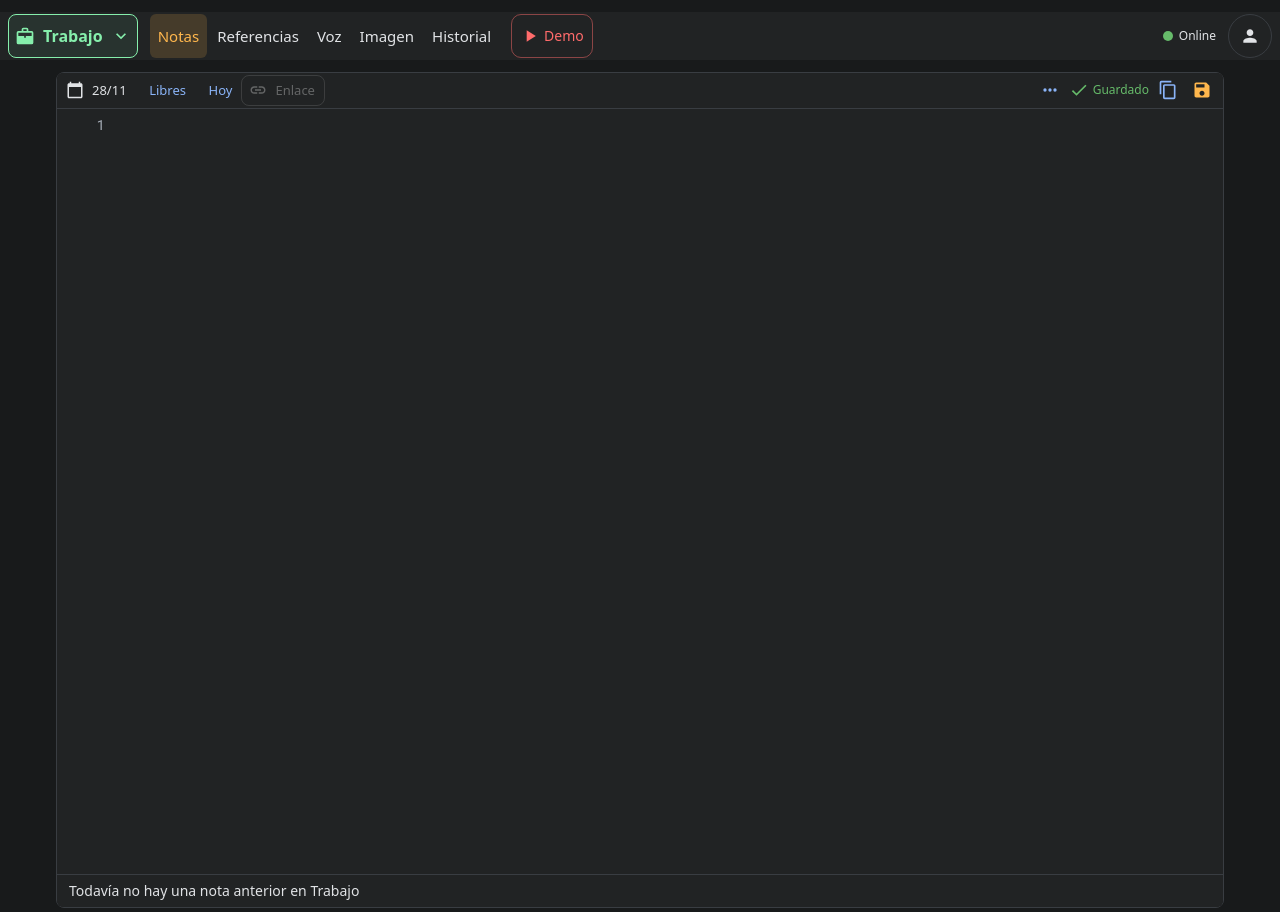
DailyNotesPage copy note › shows error when clipboard API rejects permission
Click the button named "Copiar nota" at [1168, 90], box [1153, 75, 1183, 105]
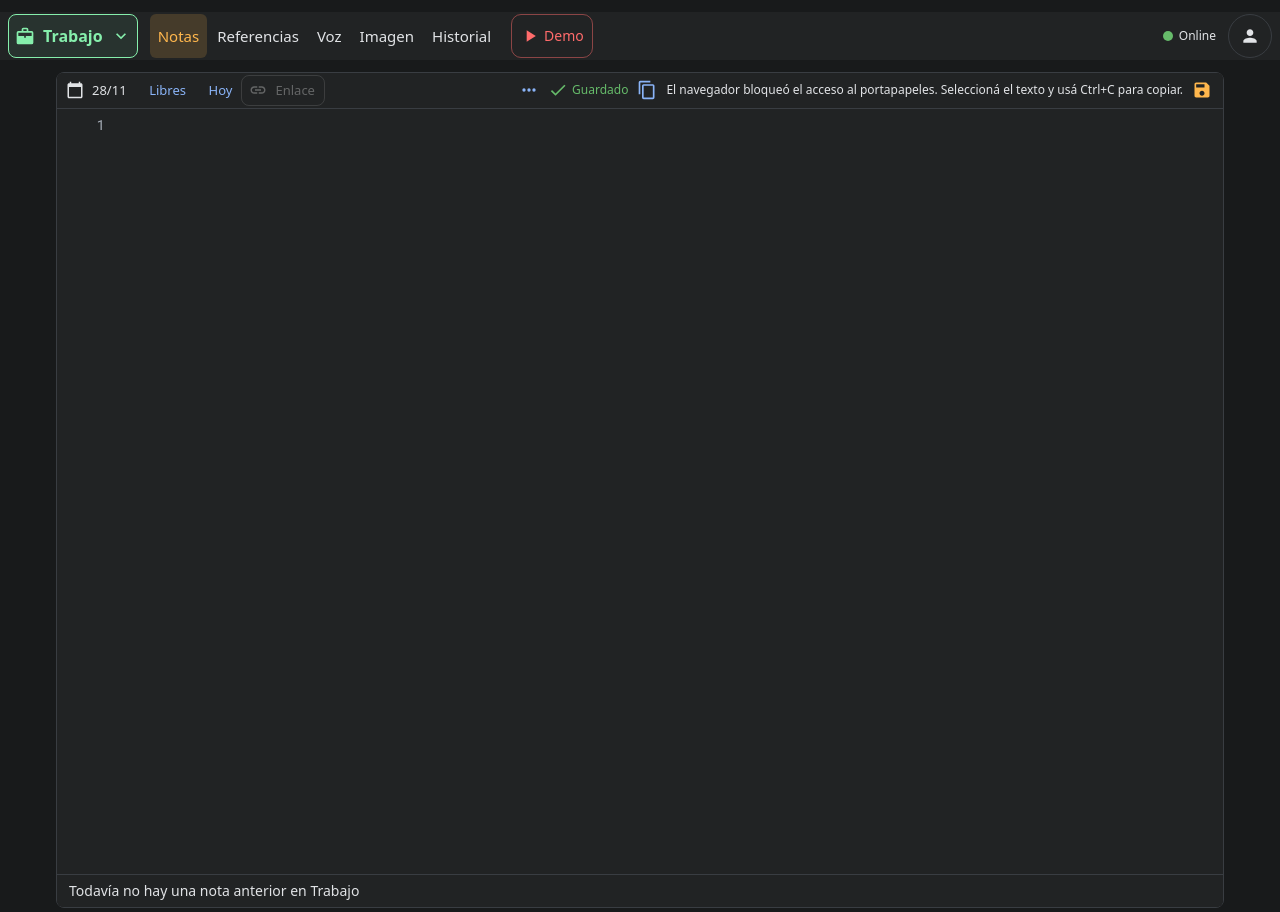
Expected: the 3rd message shows "bloqueó", [666, 81, 1183, 98]
